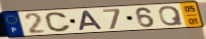2: (23, 12, 48, 35)
6: (135, 6, 156, 29)
7: (101, 8, 124, 31)
A: (78, 10, 105, 32)
C: (44, 12, 73, 33)
Q: (158, 5, 185, 27)
